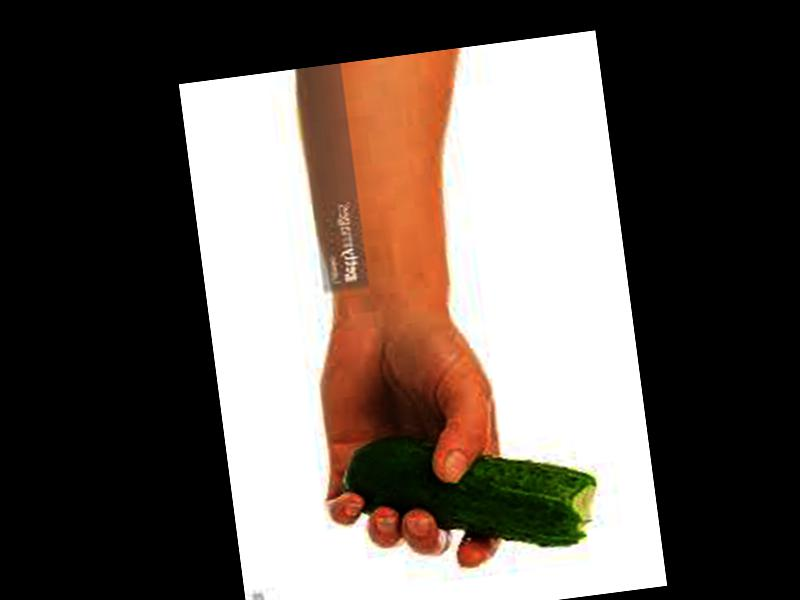Cucumber: (340, 413, 603, 572)
